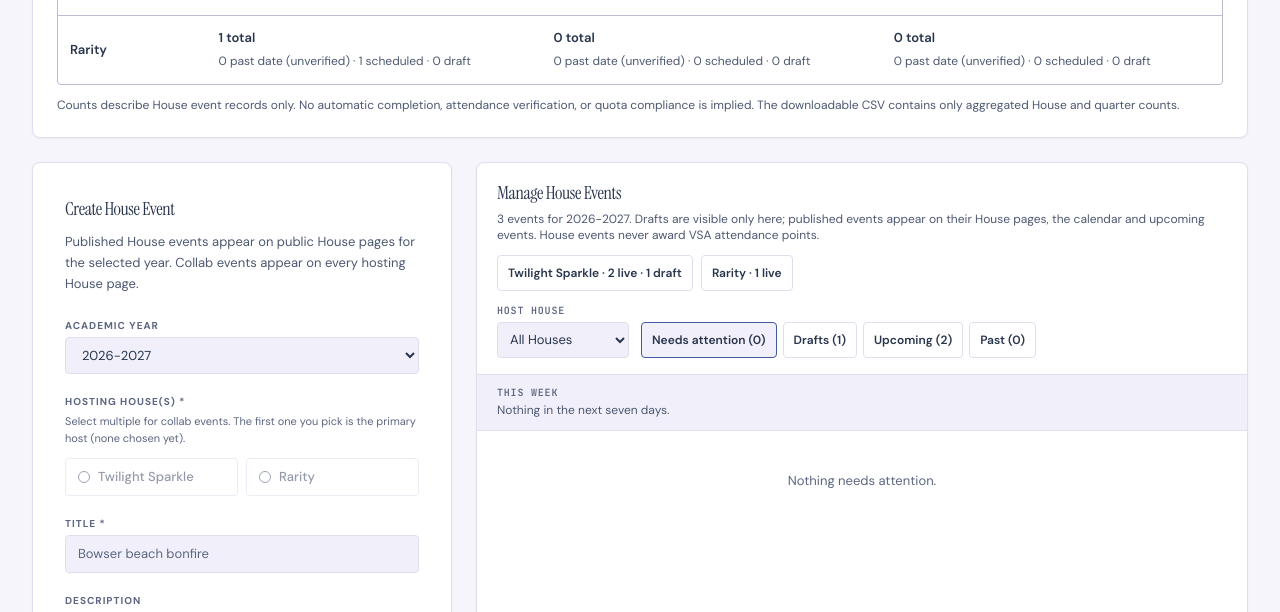
it: lists a collab event once and finds it under each host House, and keeps drafts out of Upcoming
(page scrolled)
Click the button "Upcoming (2)": x=913, y=340 [863,322,963,358]
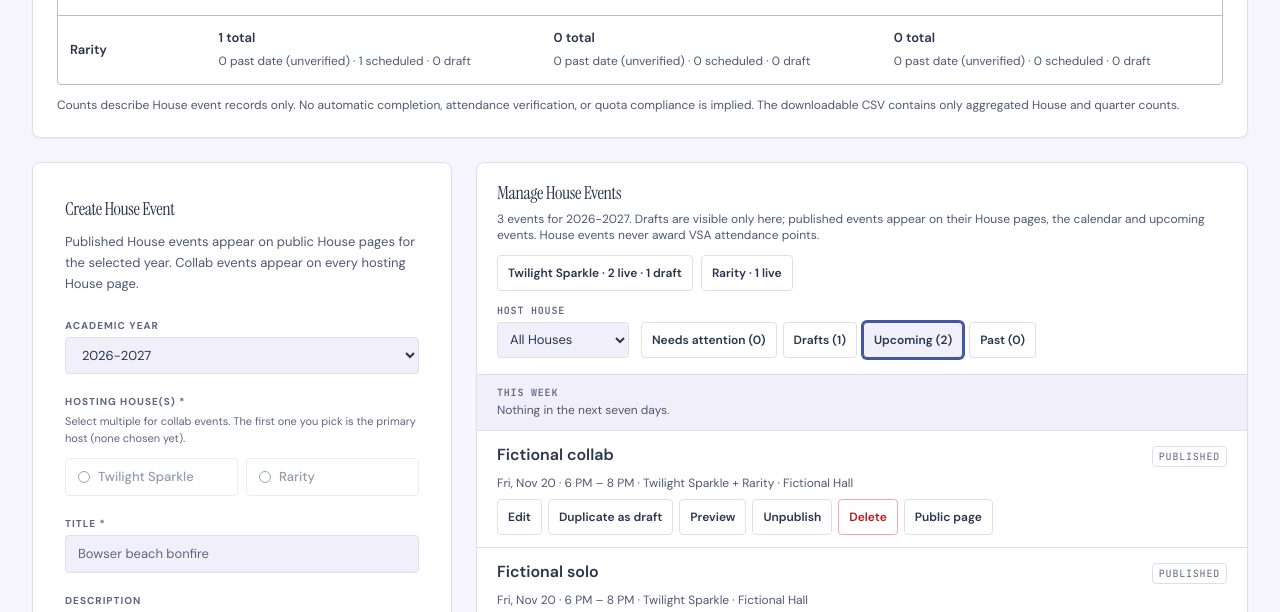
Expected: the text "Fictional collab" is shown once, [497,443,614,467]
Select "Rarity" in the dropdown labelled "Host House": x=563, y=340 [497,322,629,358]
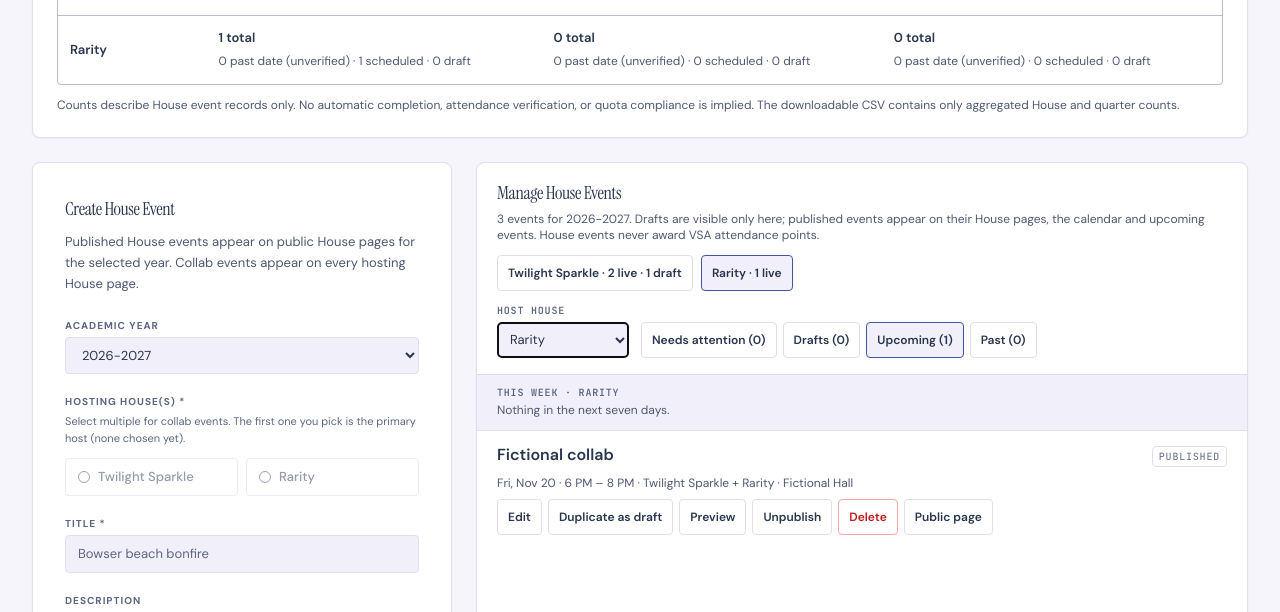
Expected: the text "Fictional collab" is shown, [497,443,614,467]
Expected: the text "Fictional solo" is gone
